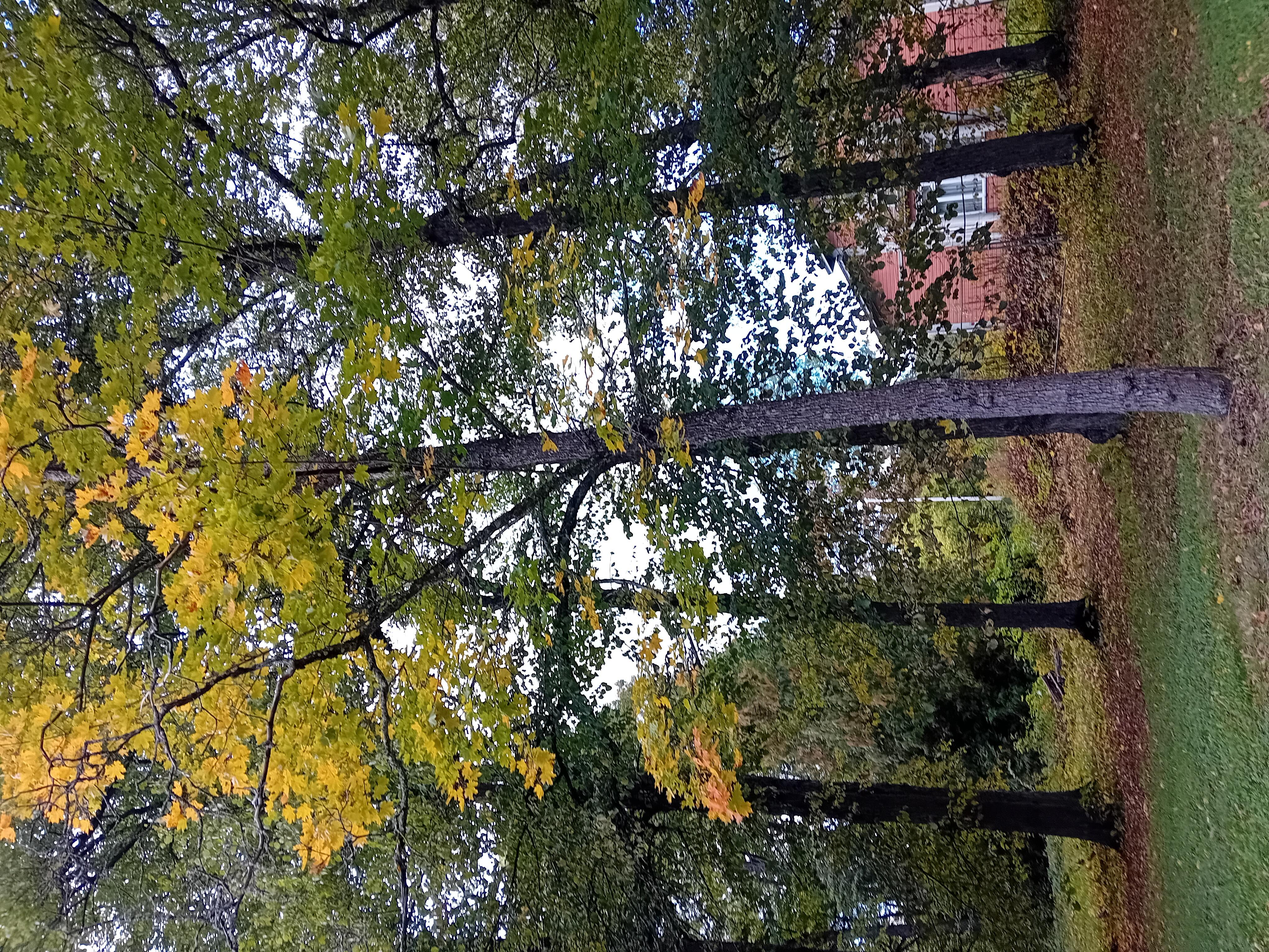Maple: (17, 0, 956, 905), (153, 17, 849, 940)
